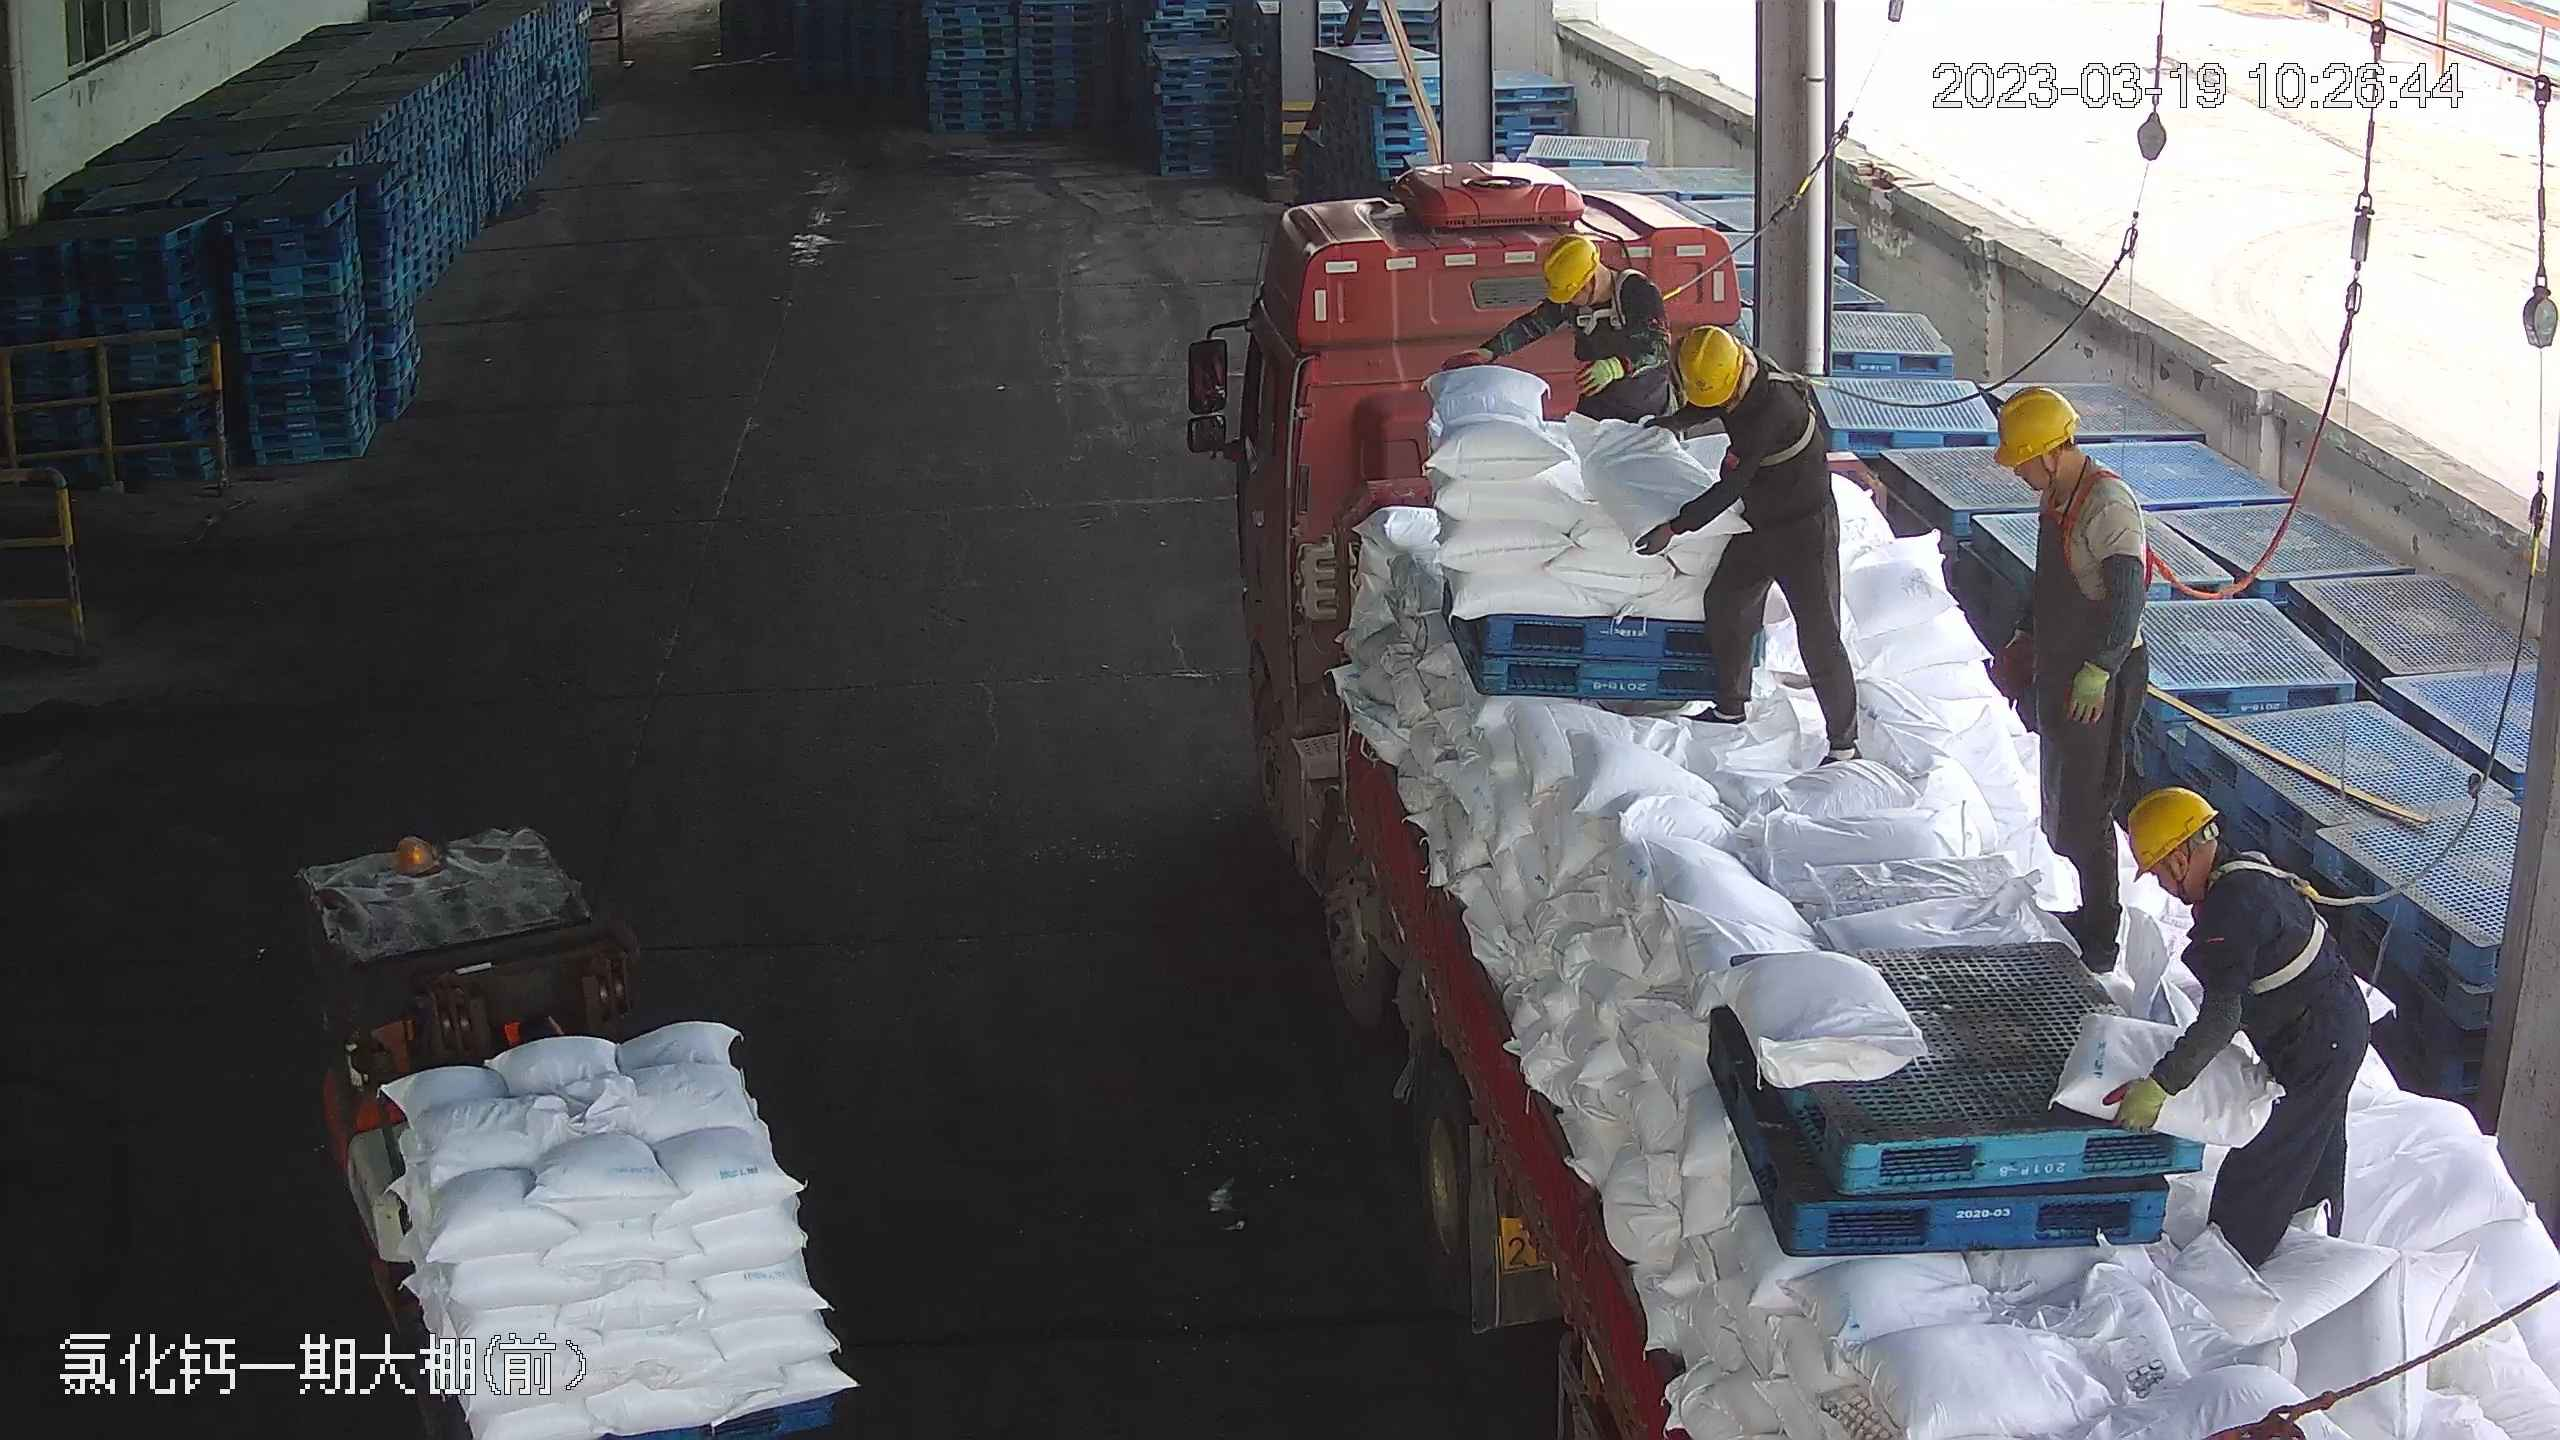belt: (2205, 843, 2359, 994), (2043, 465, 2161, 597), (1729, 356, 1831, 467), (1571, 265, 1667, 348)
head: (2125, 787, 2308, 949), (1987, 384, 2142, 551), (1658, 322, 1813, 444), (1530, 231, 1663, 338), (1677, 322, 1748, 407)
helmet: (2128, 782, 2220, 876), (1990, 383, 2079, 467), (1676, 322, 1748, 409), (1538, 230, 1602, 301)
people: (2098, 783, 2374, 1268), (1625, 320, 1860, 762), (1988, 382, 2157, 993), (1464, 227, 1688, 439)
truck: (1195, 173, 2560, 1438)
